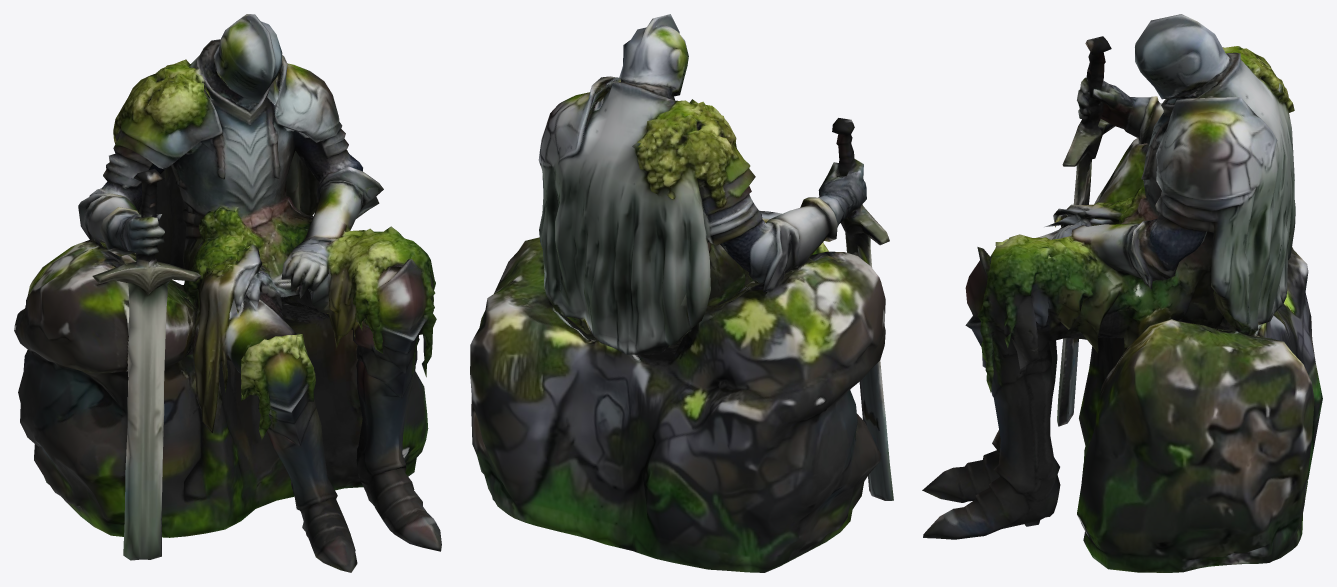
File: caballero.glb
3 renders of one model, left to right at view 1: azimuth 30°, elevation 25°; view 2: azimuth 150°, elevation 25°; view 3: azimuth 270°, elevation 25°, orthographic. The views are drawn at different scales.
Parts seen in each view (by area): view 1: Object_4; view 2: Object_4; view 3: Object_4.
Part boxes in pixels (x1,y1,x2,y2): Object_4: (14, 14, 441, 572); Object_4: (470, 14, 893, 572); Object_4: (922, 14, 1322, 572).
Size of the model in its own units: 1.59 by 1.92 by 1.42.
Materials: 1 (1 with a texture image).
